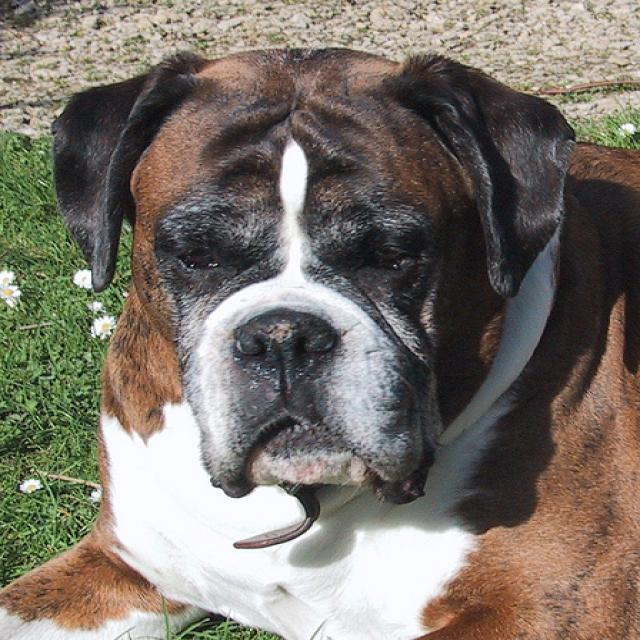dog-boxer: (1, 33, 637, 637)
